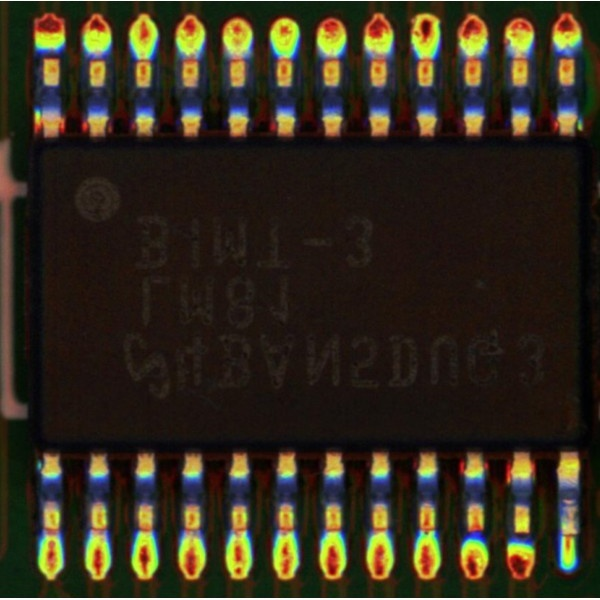Bad_podu: (561, 525, 576, 554)
